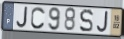8: (64, 7, 77, 33)
9: (48, 7, 61, 32)
C: (30, 6, 46, 30)
J: (96, 10, 110, 33), (16, 6, 29, 29)
S: (79, 8, 94, 34)
